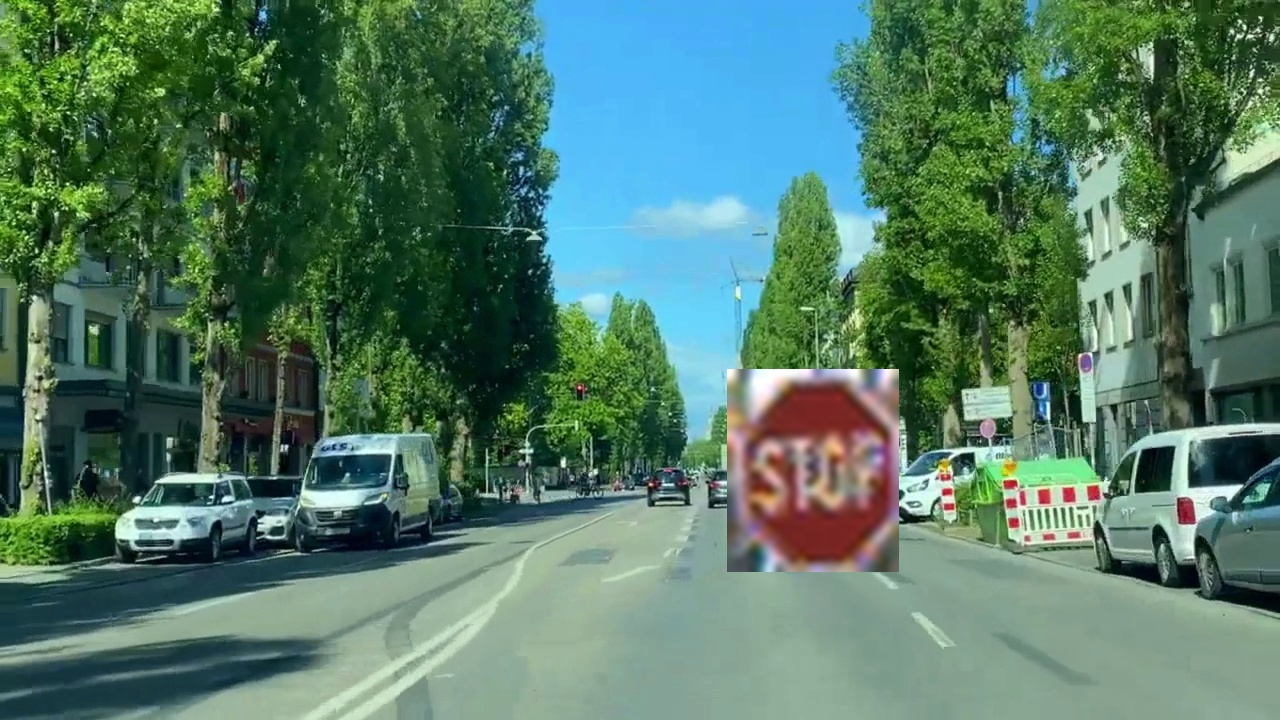Stop: (727, 369, 899, 572)
